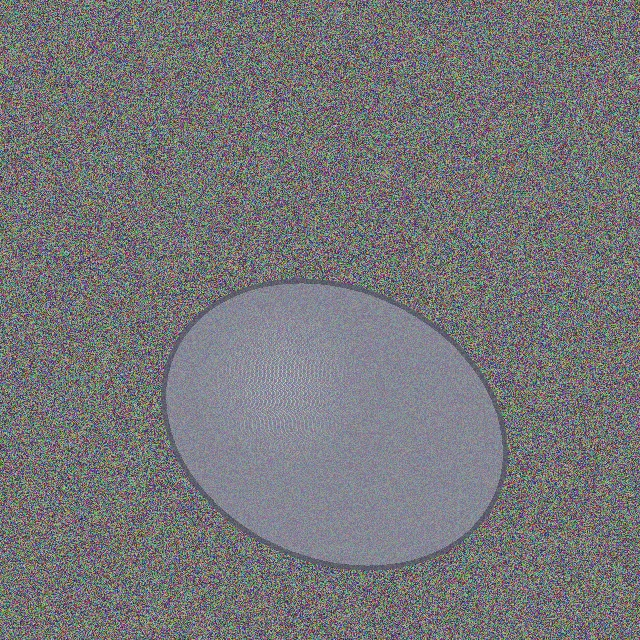lens: (163, 280, 505, 568)
